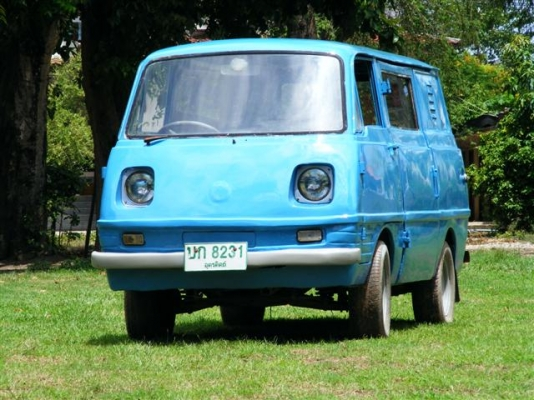van: (89, 38, 473, 338)
